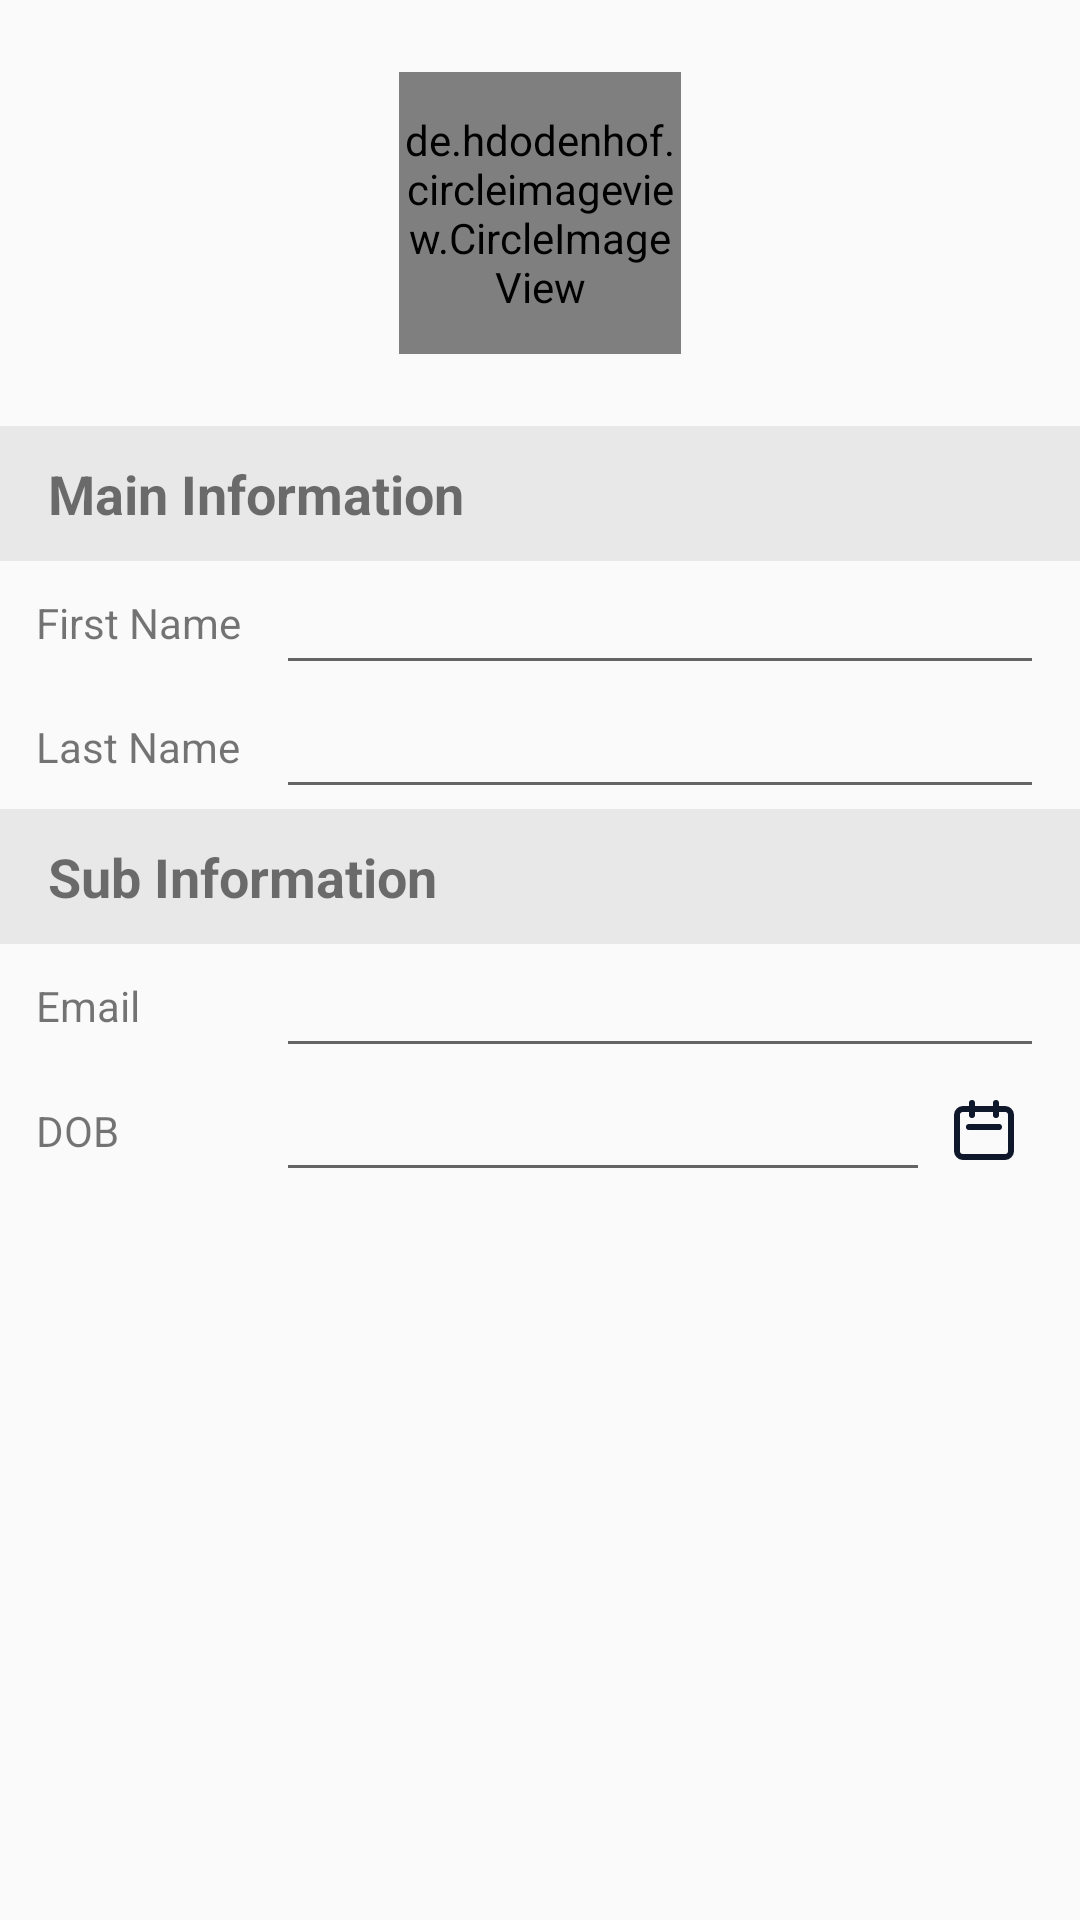

Point at icon controls on the screen. Image size 1080px×1920px, points as (x=x, y=y).
calendar: (x=984, y=1130)
